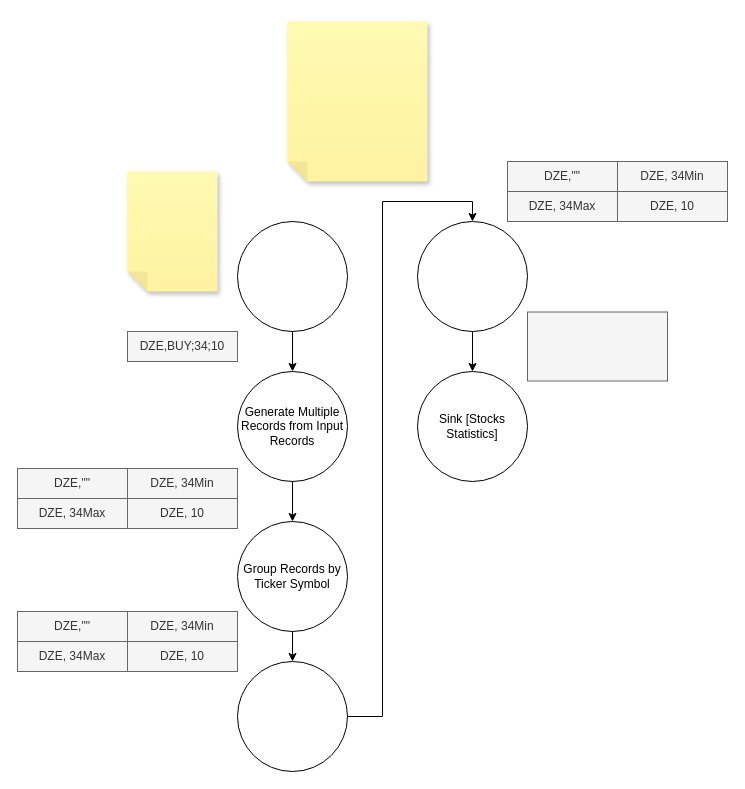
This 745x789 diagram has some shape labels left out. The centre of each missing label's shape, as x and y in pixels:
Aggregate Records: the point at 472,276
DZE : [34 Trades, Min Price: 34PHP, Max Price: 34PHP, Volume: 10 Shares]: the point at 597,346
Get # of trades, min price, max price, and volume for each window: the point at 358,102
Group Records by Time Window: the point at 292,716
Input: TYPE, Price, Shares: the point at 173,232
Source [Records of Stock Trades]: the point at 292,276
